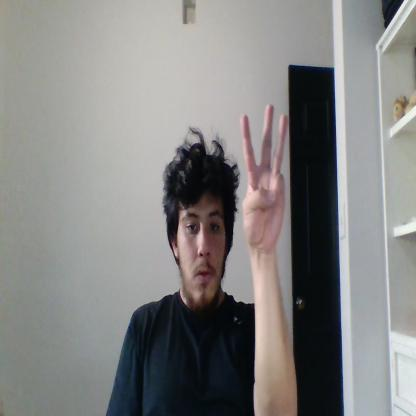W: (240, 105, 287, 249)
